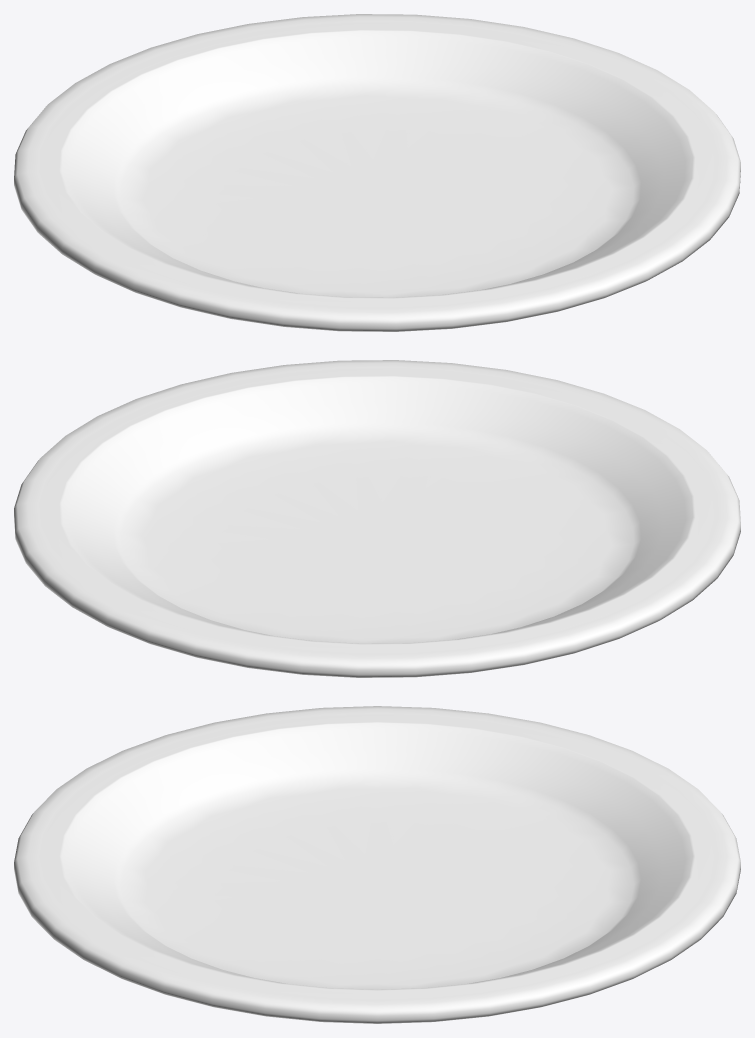
File: Plate.fbx
The picture shows the model from 3 angles, top to bottom: view 1: azimuth 30°, elevation 25°; view 2: azimuth 150°, elevation 25°; view 3: azimuth 270°, elevation 25°; orthographic projection.
Visible parts, largest first — view 1: pCylinder2; view 2: pCylinder2; view 3: pCylinder2.
Part boxes in pixels (left/top/right/bottom): pCylinder2: left=14, top=14, right=740, bottom=331; pCylinder2: left=14, top=360, right=740, bottom=677; pCylinder2: left=14, top=706, right=740, bottom=1023.
Bounding box in the file's own units: 2.8 × 0.1908 × 2.8.
Materials: 1 (1 with a texture image).
